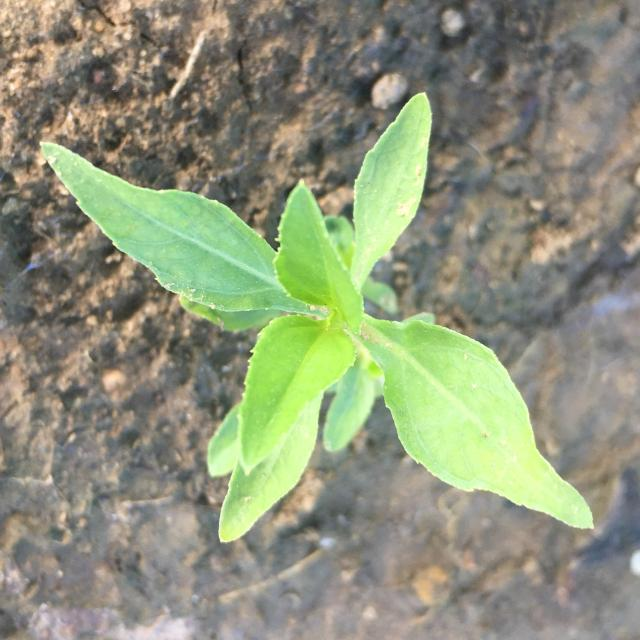Eclipta: (38, 92, 594, 544)
